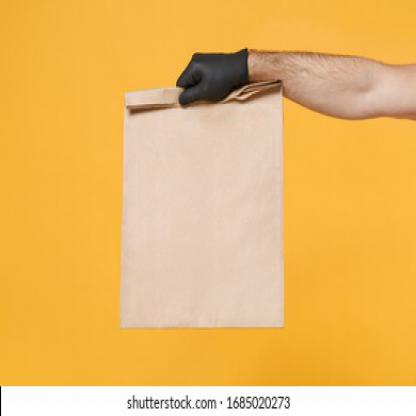with_gloves: (175, 46, 251, 109)
